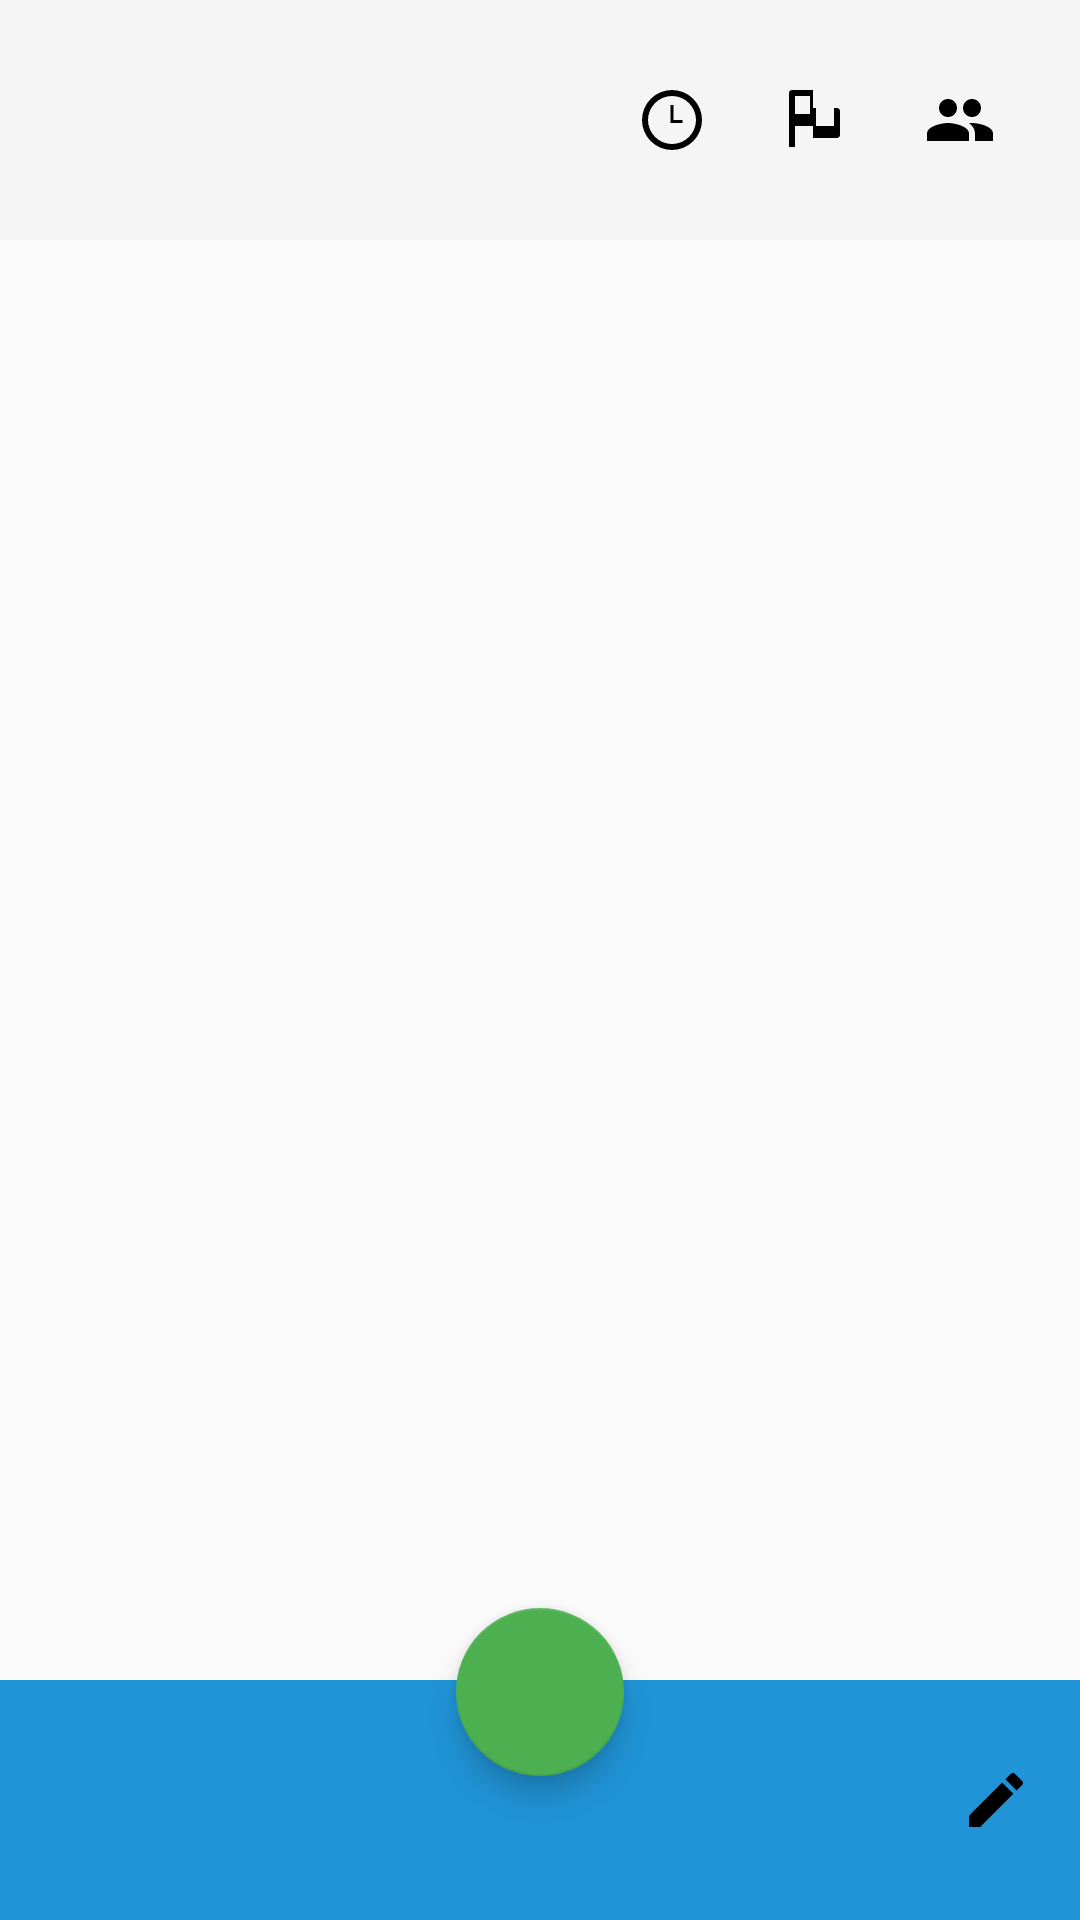

Screen size 1080 × 1920. Icon name, then its box in pixels as (x1, y1, x2, y2):
Flag: (789, 90, 840, 147)
History: (642, 90, 702, 150)
People: (927, 99, 993, 141)
